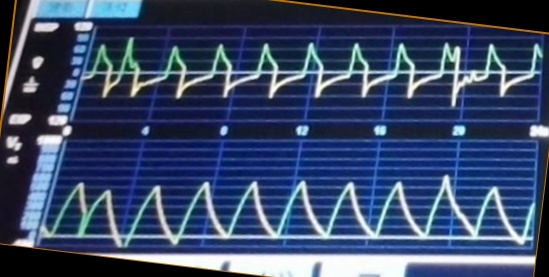Double_Triggering Flow: (94, 33, 481, 113)
Double_Triggering Volume: (48, 175, 466, 249)
